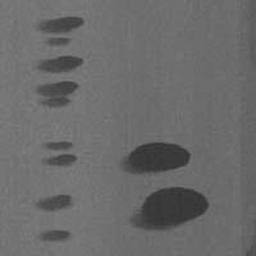Oil spot: (128, 184, 211, 233), (116, 140, 193, 177), (32, 14, 86, 49), (33, 78, 81, 111), (31, 55, 86, 76), (38, 140, 79, 168), (29, 192, 76, 214), (33, 228, 73, 242)
